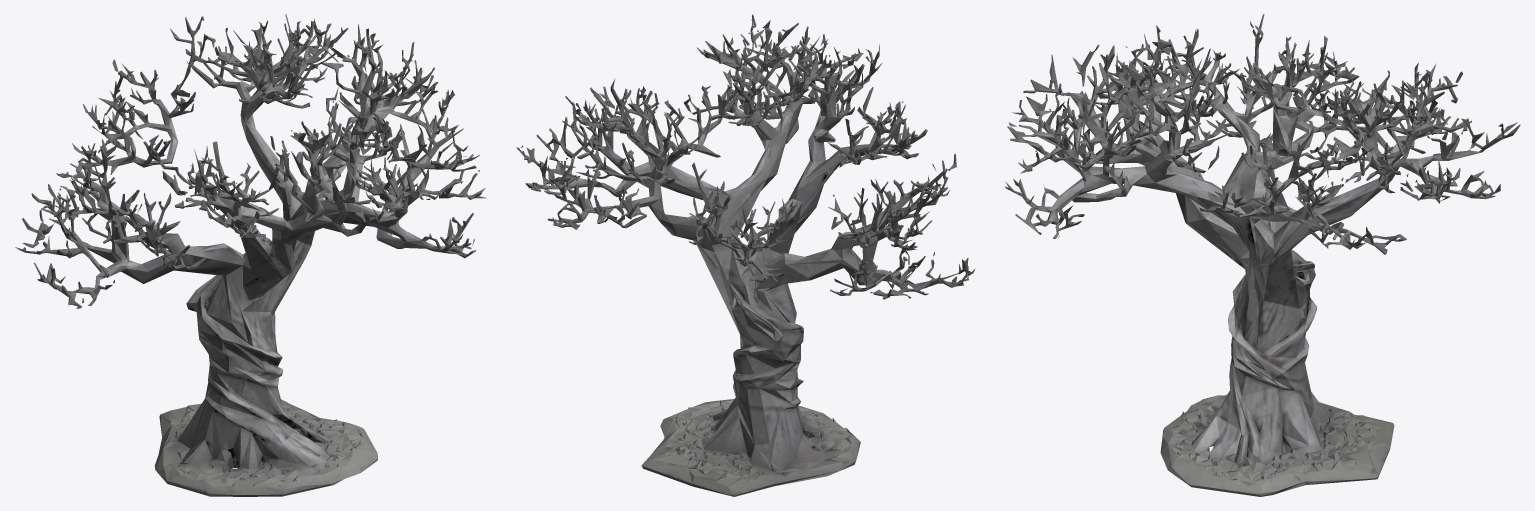
The model's file is bog_dead_tree_02.glb.
3 views of the same model, side by side, from view 1: azimuth 30°, elevation 25°; view 2: azimuth 150°, elevation 25°; view 3: azimuth 270°, elevation 25° (orthographic). The views are drawn at different scales.
Parts seen in each view (by area): view 1: geometry_0; view 2: geometry_0; view 3: geometry_0.
Part boxes in pixels (left/top/right/bottom): geometry_0: left=15, top=14, right=486, bottom=496; geometry_0: left=516, top=14, right=975, bottom=496; geometry_0: left=1005, top=14, right=1520, bottom=496.
Size of the model in its own units: 0.9988 by 0.8546 by 0.9936.
1 material, 1 textured.
